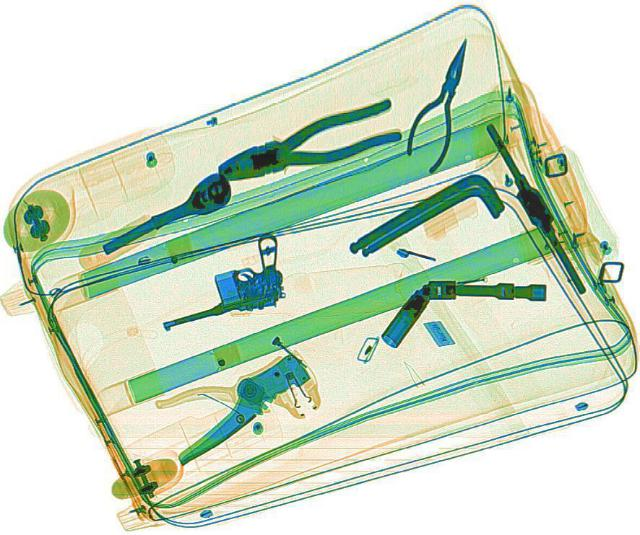Gun: (133, 229, 303, 334)
Pliers: (208, 96, 408, 190), (394, 33, 486, 175)
